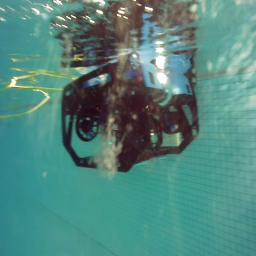front: (59, 48, 199, 174)
